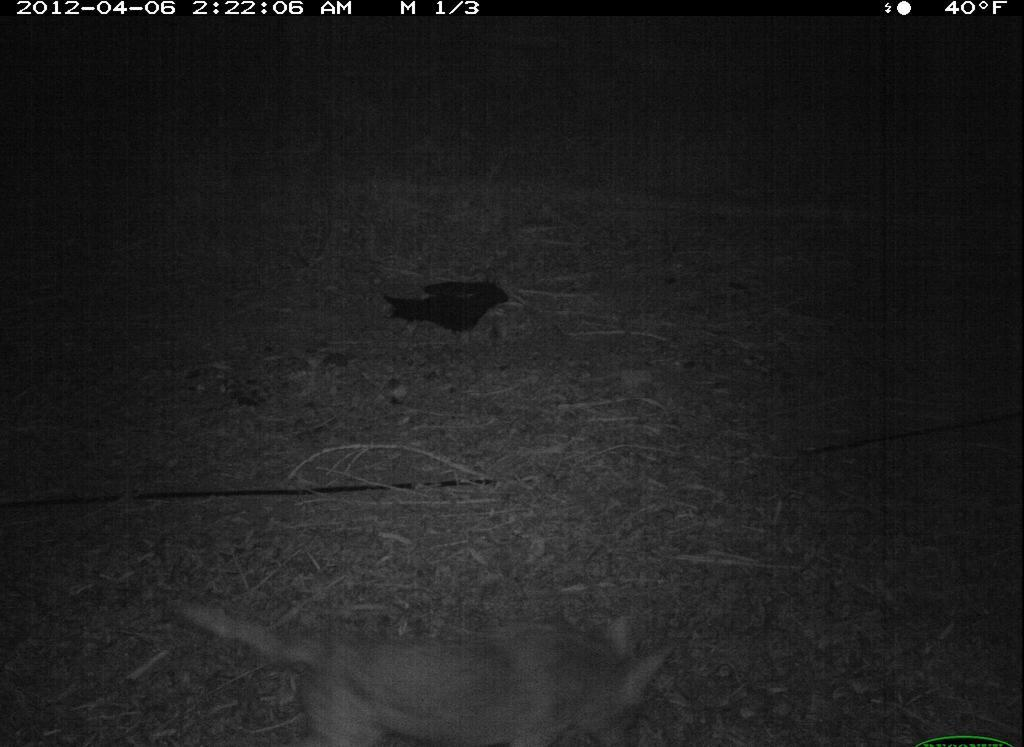coyote: (144, 579, 678, 747)
